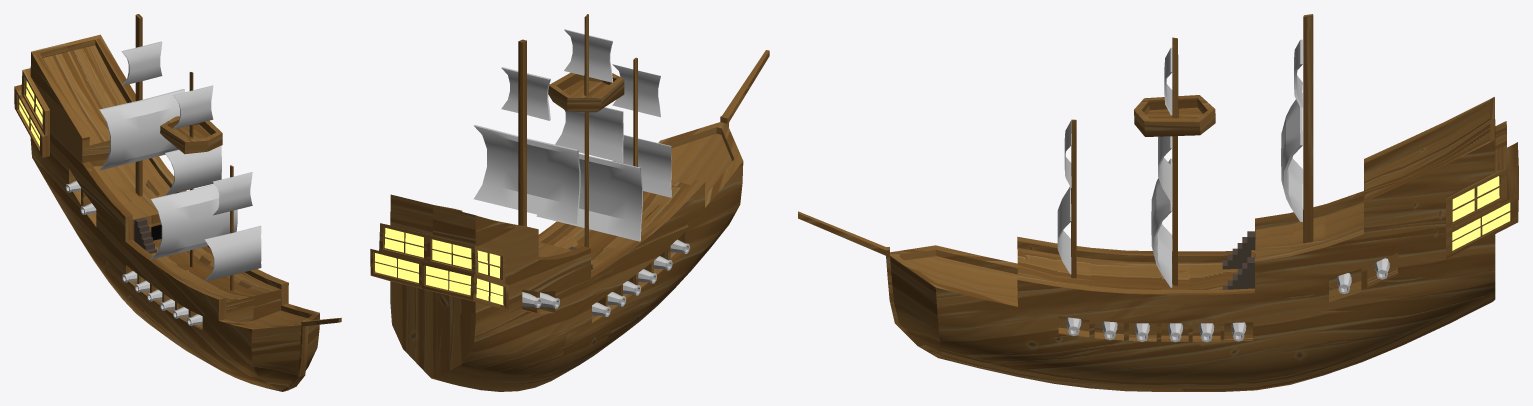
The model's file is Shipp 1.fbx.
3 views of the same model, side by side, from view 1: azimuth 30°, elevation 25°; view 2: azimuth 150°, elevation 25°; view 3: azimuth 270°, elevation 25° (orthographic). The views are drawn at different scales.
Parts seen in each view (by area): view 1: Cube, Cube.006, Cube.003, Cube.001, Cube.004, Cube.007, Cube.005, Cube.008, Cube.002, Cube.010; view 2: Cube, Cube.006, Cube.003, Cube.004, Cube.001, Cube.008, Cube.005, Cube.002, Cube.007; view 3: Cube, Cube.006, Cube.008, Cube.003, Cube.001, Cube.004.
Boxes of the visible parts, <box> form: Cube: <box>14,14,341,391</box>; Cube.006: <box>99,89,184,170</box>; Cube.003: <box>150,184,237,259</box>; Cube.001: <box>204,225,261,281</box>; Cube.004: <box>165,145,221,195</box>; Cube.007: <box>121,41,162,85</box>; Cube.005: <box>173,85,213,129</box>; Cube.008: <box>65,180,202,325</box>; Cube.002: <box>213,172,252,215</box>; Cube.010: <box>134,217,156,253</box>; Cube: <box>370,14,769,391</box>; Cube.006: <box>474,125,580,224</box>; Cube.003: <box>536,153,642,241</box>; Cube.004: <box>555,107,623,162</box>; Cube.001: <box>613,135,671,197</box>; Cube.008: <box>522,239,689,316</box>; Cube.005: <box>564,29,612,82</box>; Cube.002: <box>612,64,660,117</box>; Cube.007: <box>501,67,550,120</box>; Cube: <box>798,14,1518,391</box>; Cube.006: <box>1281,92,1302,221</box>; Cube.008: <box>1066,258,1389,342</box>; Cube.003: <box>1151,158,1172,287</box>; Cube.001: <box>1057,187,1071,274</box>; Cube.004: <box>1158,136,1171,201</box>.
Size of the model in its own units: 248 by 819 by 1426.
